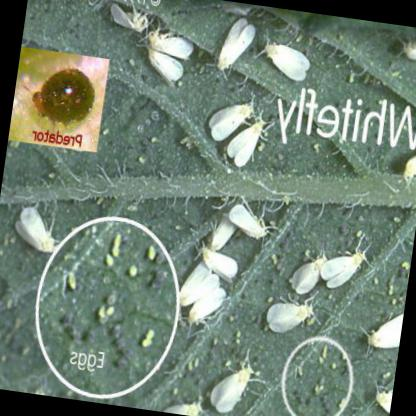whitefly: (209, 366, 253, 413), (12, 206, 55, 252), (218, 16, 255, 66), (318, 251, 366, 289), (226, 120, 264, 167), (206, 105, 252, 141), (265, 43, 310, 79), (179, 264, 217, 306), (267, 302, 311, 331)
